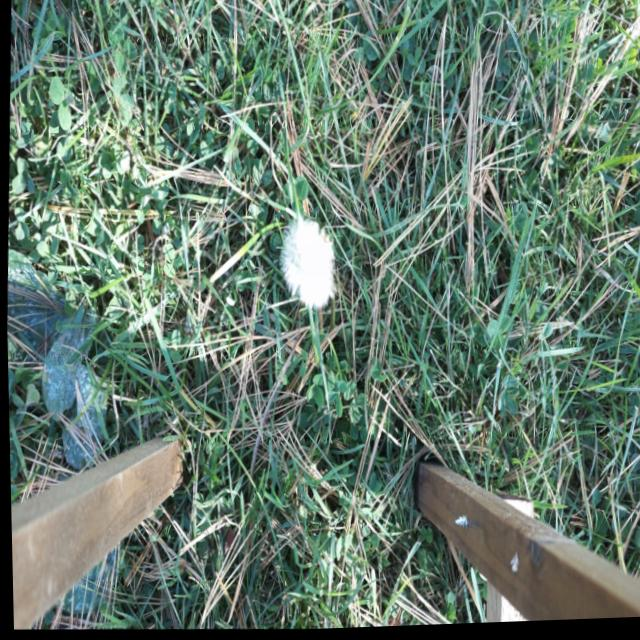flower: (279, 219, 335, 311)
